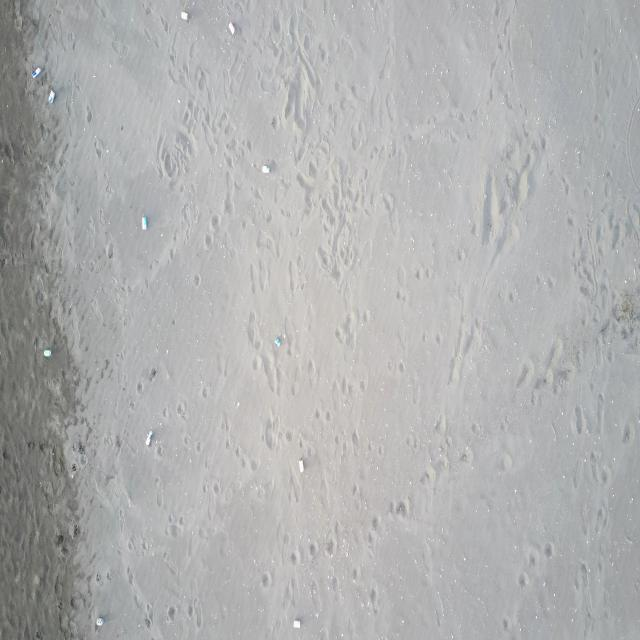tin-and-aluminum-cans: (31, 65, 42, 80), (227, 20, 237, 36), (180, 9, 190, 23), (272, 336, 282, 350), (145, 429, 153, 446), (262, 163, 272, 176), (47, 90, 56, 104), (140, 216, 148, 231), (292, 618, 302, 630), (95, 616, 105, 628), (298, 456, 304, 475), (43, 347, 52, 359)
